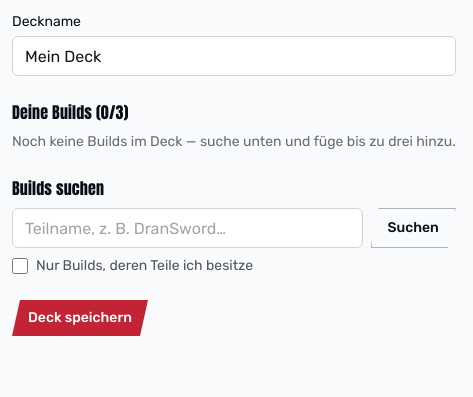
Test: DeckBuilder — Speichern-Feedback (#164) › zeigt "Gespeichert." nach erfolgreichem PATCH
The width and height of the screenshot is (473, 397).
Click the button "Deck speichern": (80, 318) [12,300,148,336]
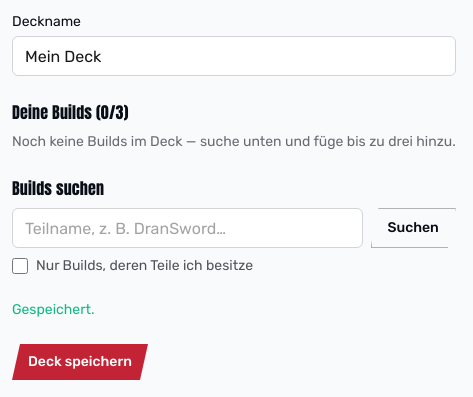
expect the text "Gespeichert." is shown: met, box [12,301,94,318]
